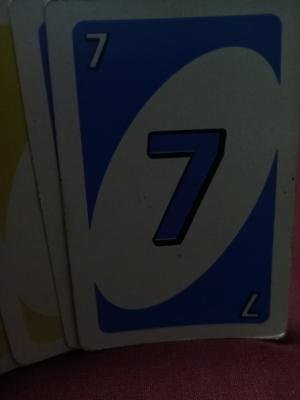blue: (60, 26, 282, 329)
num_7: (77, 25, 114, 76), (240, 286, 274, 327)
